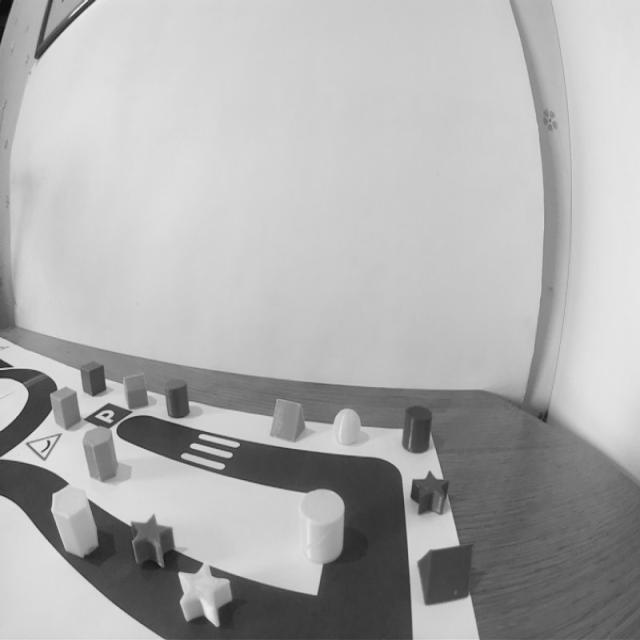ball: (331, 406, 365, 449)
cube: (79, 355, 109, 398)
cylinder: (295, 484, 349, 570), (399, 400, 439, 456), (46, 380, 82, 434), (162, 377, 195, 422)
hexagon: (45, 479, 102, 567), (82, 421, 122, 486)
home: (120, 371, 150, 414)
star: (175, 559, 239, 631), (126, 508, 178, 574), (406, 466, 454, 525)
triangle: (415, 535, 479, 608), (268, 396, 310, 444)
